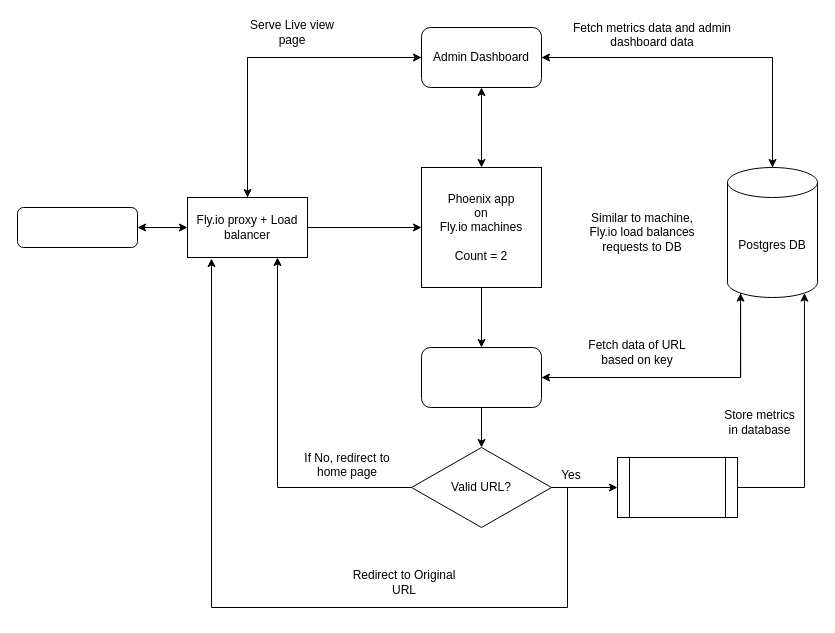
Some shapes in this 835 by 633 pixel diagram are drawn without their labels. Here are the shapes that lost their labels. From the top down, the centre of each, then its label:
At (x=77, y=227): "Client".
At (x=481, y=377): "Redirection controller".
At (x=677, y=487): "Metrics GenServer".
